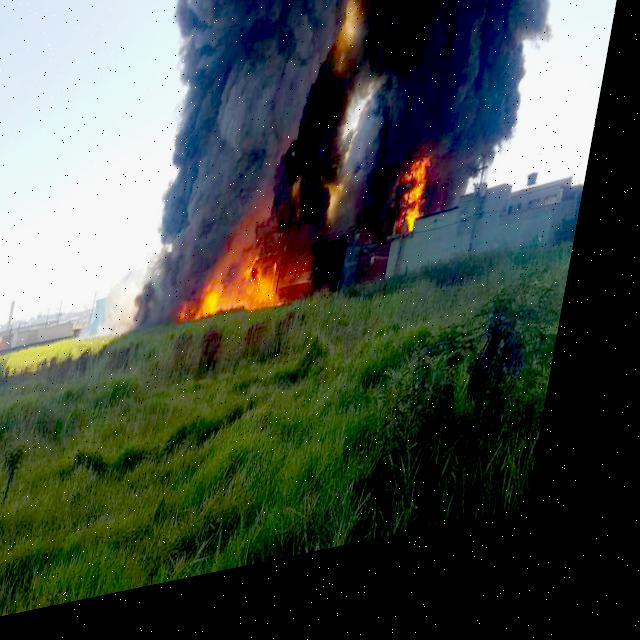Fire: (187, 246, 310, 345), (405, 165, 450, 259)
